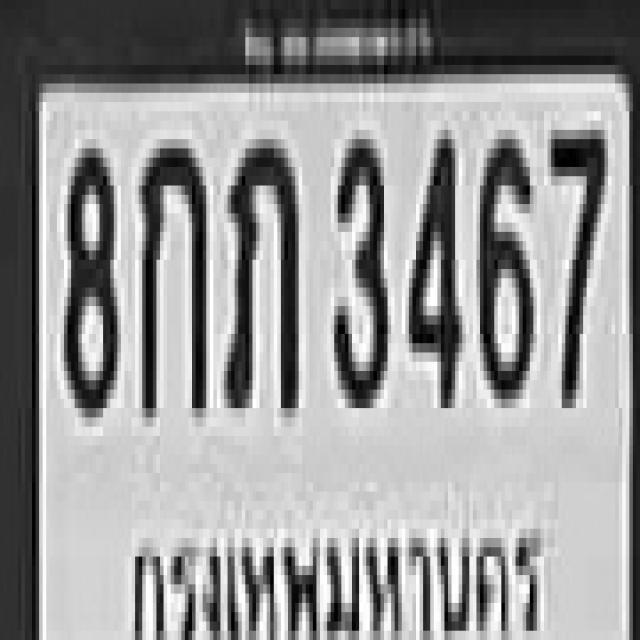10GorGai: (139, 130, 209, 418)
3: (330, 130, 390, 416)
4: (406, 120, 464, 410)
41PhorSamPhao: (220, 130, 300, 422)
6: (476, 130, 536, 403)
7: (547, 120, 606, 411)
8: (60, 139, 120, 423)
Bangkok: (121, 482, 544, 640)
